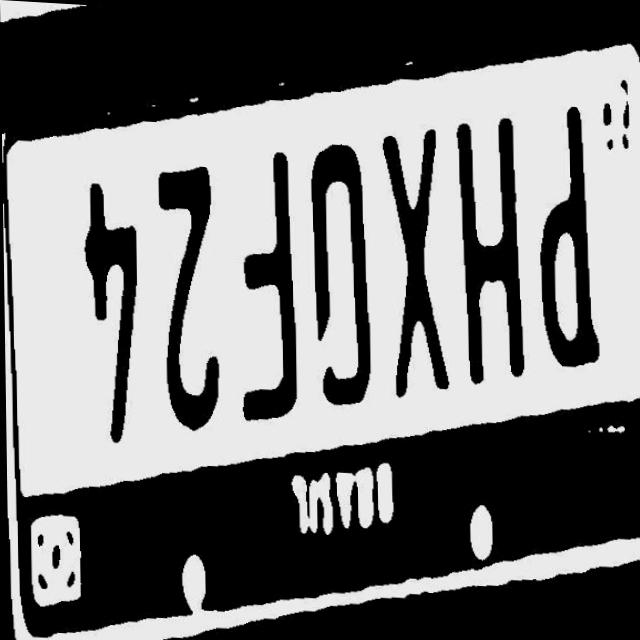0: (307, 131, 378, 406)
2: (154, 162, 224, 435)
4: (78, 175, 145, 450)
f: (237, 144, 304, 425)
h: (452, 109, 527, 382)
p: (532, 95, 601, 367)
x: (381, 117, 448, 403)
